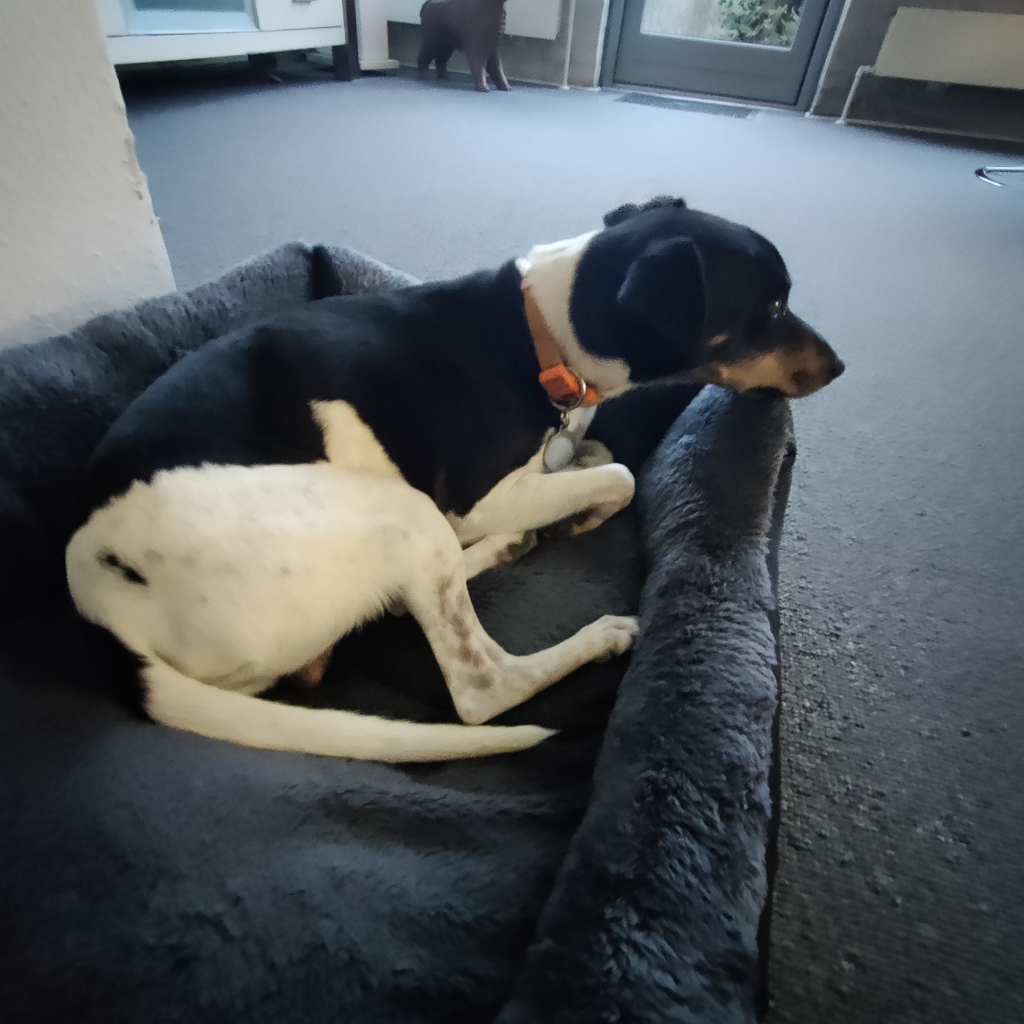Cattle: (407, 0, 521, 103)
Dog: (4, 158, 894, 794)
